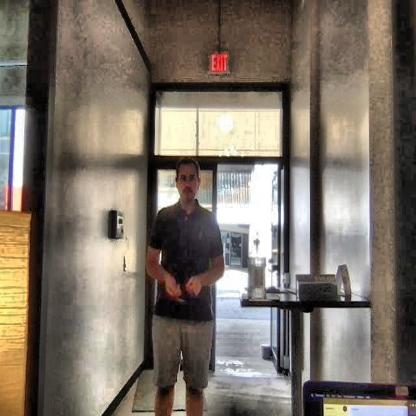not_wear: (174, 159, 200, 207)
